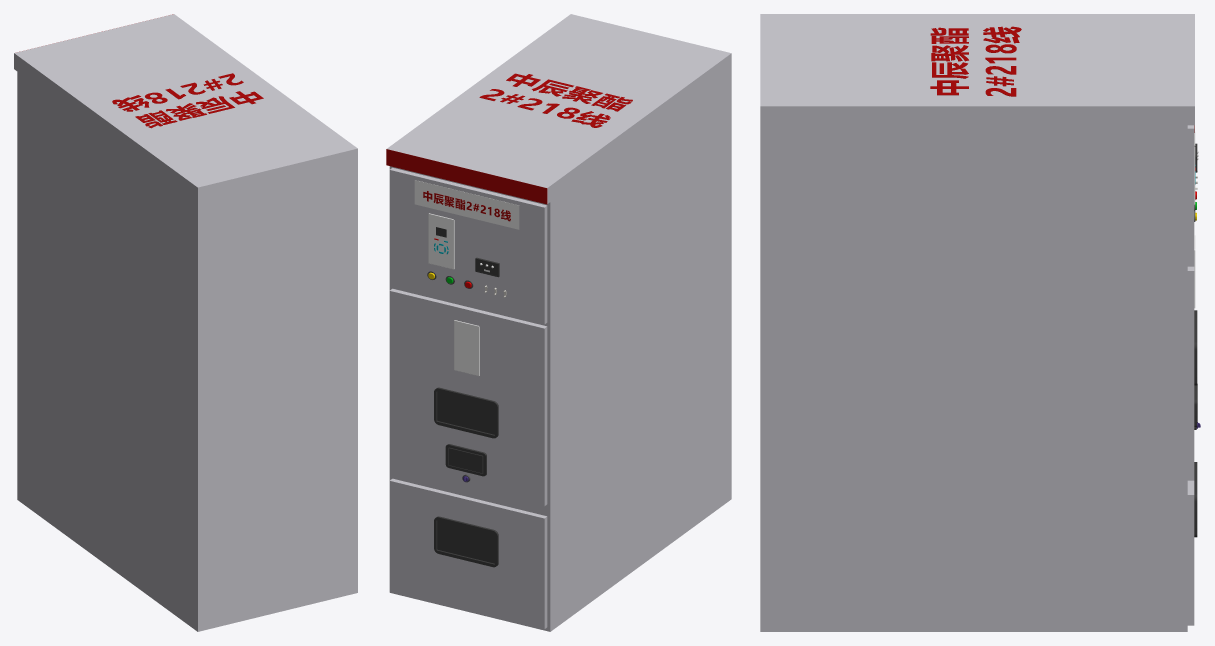
The model's file is 1-5-processed.gltf.
3 views of the same model, side by side, from view 1: azimuth 30°, elevation 25°; view 2: azimuth 150°, elevation 25°; view 3: azimuth 270°, elevation 25° (orthographic). The views are drawn at different scales.
Visible parts, largest first — view 1: Rectangle8707, Text330; view 2: Rectangle8707, Rectangle8710, Rectangle8709, Obj3d66_1138023_124_1015, Obj3d66_1138023_124_1014, Text330, Rectangle8708, Obj3d66_1138023_187_683, Obj3d66_1138023_187_682, Obj3d66_1138023_127_201, Text329; view 3: Rectangle8707, Rectangle8710, Text330.
Part boxes in pixels (left/top/right/bottom): Rectangle8707: left=14, top=14, right=357, bottom=631; Text330: left=112, top=73, right=263, bottom=128; Rectangle8707: left=387, top=14, right=731, bottom=631; Rectangle8710: left=389, top=167, right=547, bottom=629; Rectangle8709: left=386, top=149, right=547, bottom=204; Obj3d66_1138023_124_1015: left=434, top=516, right=498, bottom=567; Obj3d66_1138023_124_1014: left=434, top=387, right=498, bottom=438; Text330: left=479, top=73, right=632, bottom=127; Rectangle8708: left=414, top=180, right=519, bottom=229; Obj3d66_1138023_187_683: left=454, top=320, right=479, bottom=375; Obj3d66_1138023_187_682: left=428, top=213, right=454, bottom=269; Obj3d66_1138023_127_201: left=445, top=444, right=486, bottom=476; Text329: left=423, top=191, right=510, bottom=221; Rectangle8707: left=760, top=14, right=1194, bottom=631; Rectangle8710: left=1187, top=125, right=1194, bottom=625; Text330: left=930, top=26, right=1021, bottom=96.
Size of the model in its own units: 830 by 2201 by 1671.
